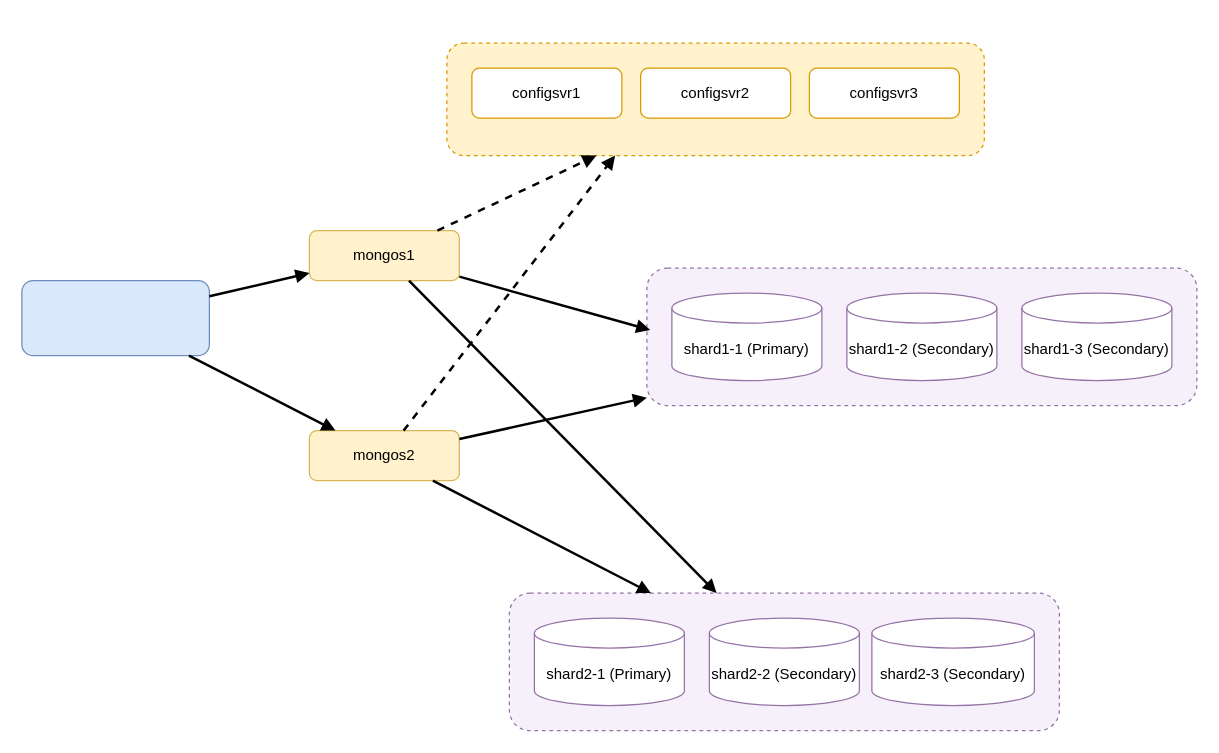
The diagram is 1219 pixels wide and 753 high, and some of its shapes have lost their labels. Each missing label, with the box of its shape:
configReplSet: (446, 42, 984, 156)
pymongo-api: (21, 279, 209, 356)
rsShard1: (646, 267, 1197, 406)
rsShard2: (508, 592, 1059, 731)
